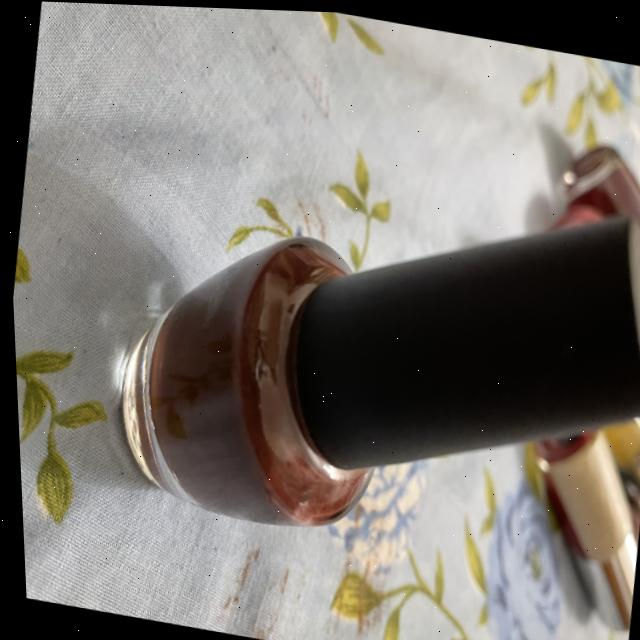nail polish: (78, 101, 640, 614)
